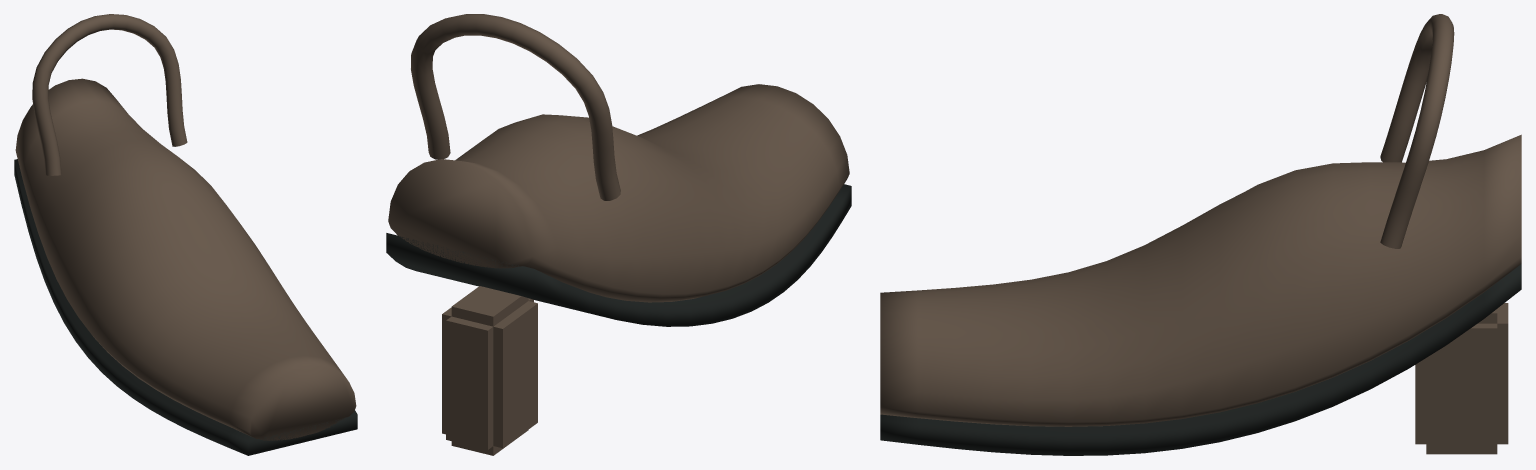
The model's file is sku_v23_heel.glb.
3 views of the same model, side by side, from view 1: azimuth 30°, elevation 25°; view 2: azimuth 150°, elevation 25°; view 3: azimuth 270°, elevation 25° (orthographic). The views are drawn at different scales.
Visible parts, largest first — view 1: sku_v23_heel_V23_smooth_leather, sku_v23_heel_Grip_rubber; view 2: sku_v23_heel_V23_smooth_leather, sku_v23_heel_Grip_rubber; view 3: sku_v23_heel_V23_smooth_leather, sku_v23_heel_Grip_rubber.
Boxes of the visible parts, left/top/right/bottom form: sku_v23_heel_V23_smooth_leather: left=15, top=14, right=356, bottom=440; sku_v23_heel_Grip_rubber: left=14, top=159, right=357, bottom=455; sku_v23_heel_V23_smooth_leather: left=388, top=14, right=849, bottom=455; sku_v23_heel_Grip_rubber: left=386, top=184, right=851, bottom=326; sku_v23_heel_V23_smooth_leather: left=880, top=14, right=1521, bottom=454; sku_v23_heel_Grip_rubber: left=880, top=264, right=1521, bottom=455.
Size of the model in its own units: 0.1298 by 0.2079 by 0.289.
